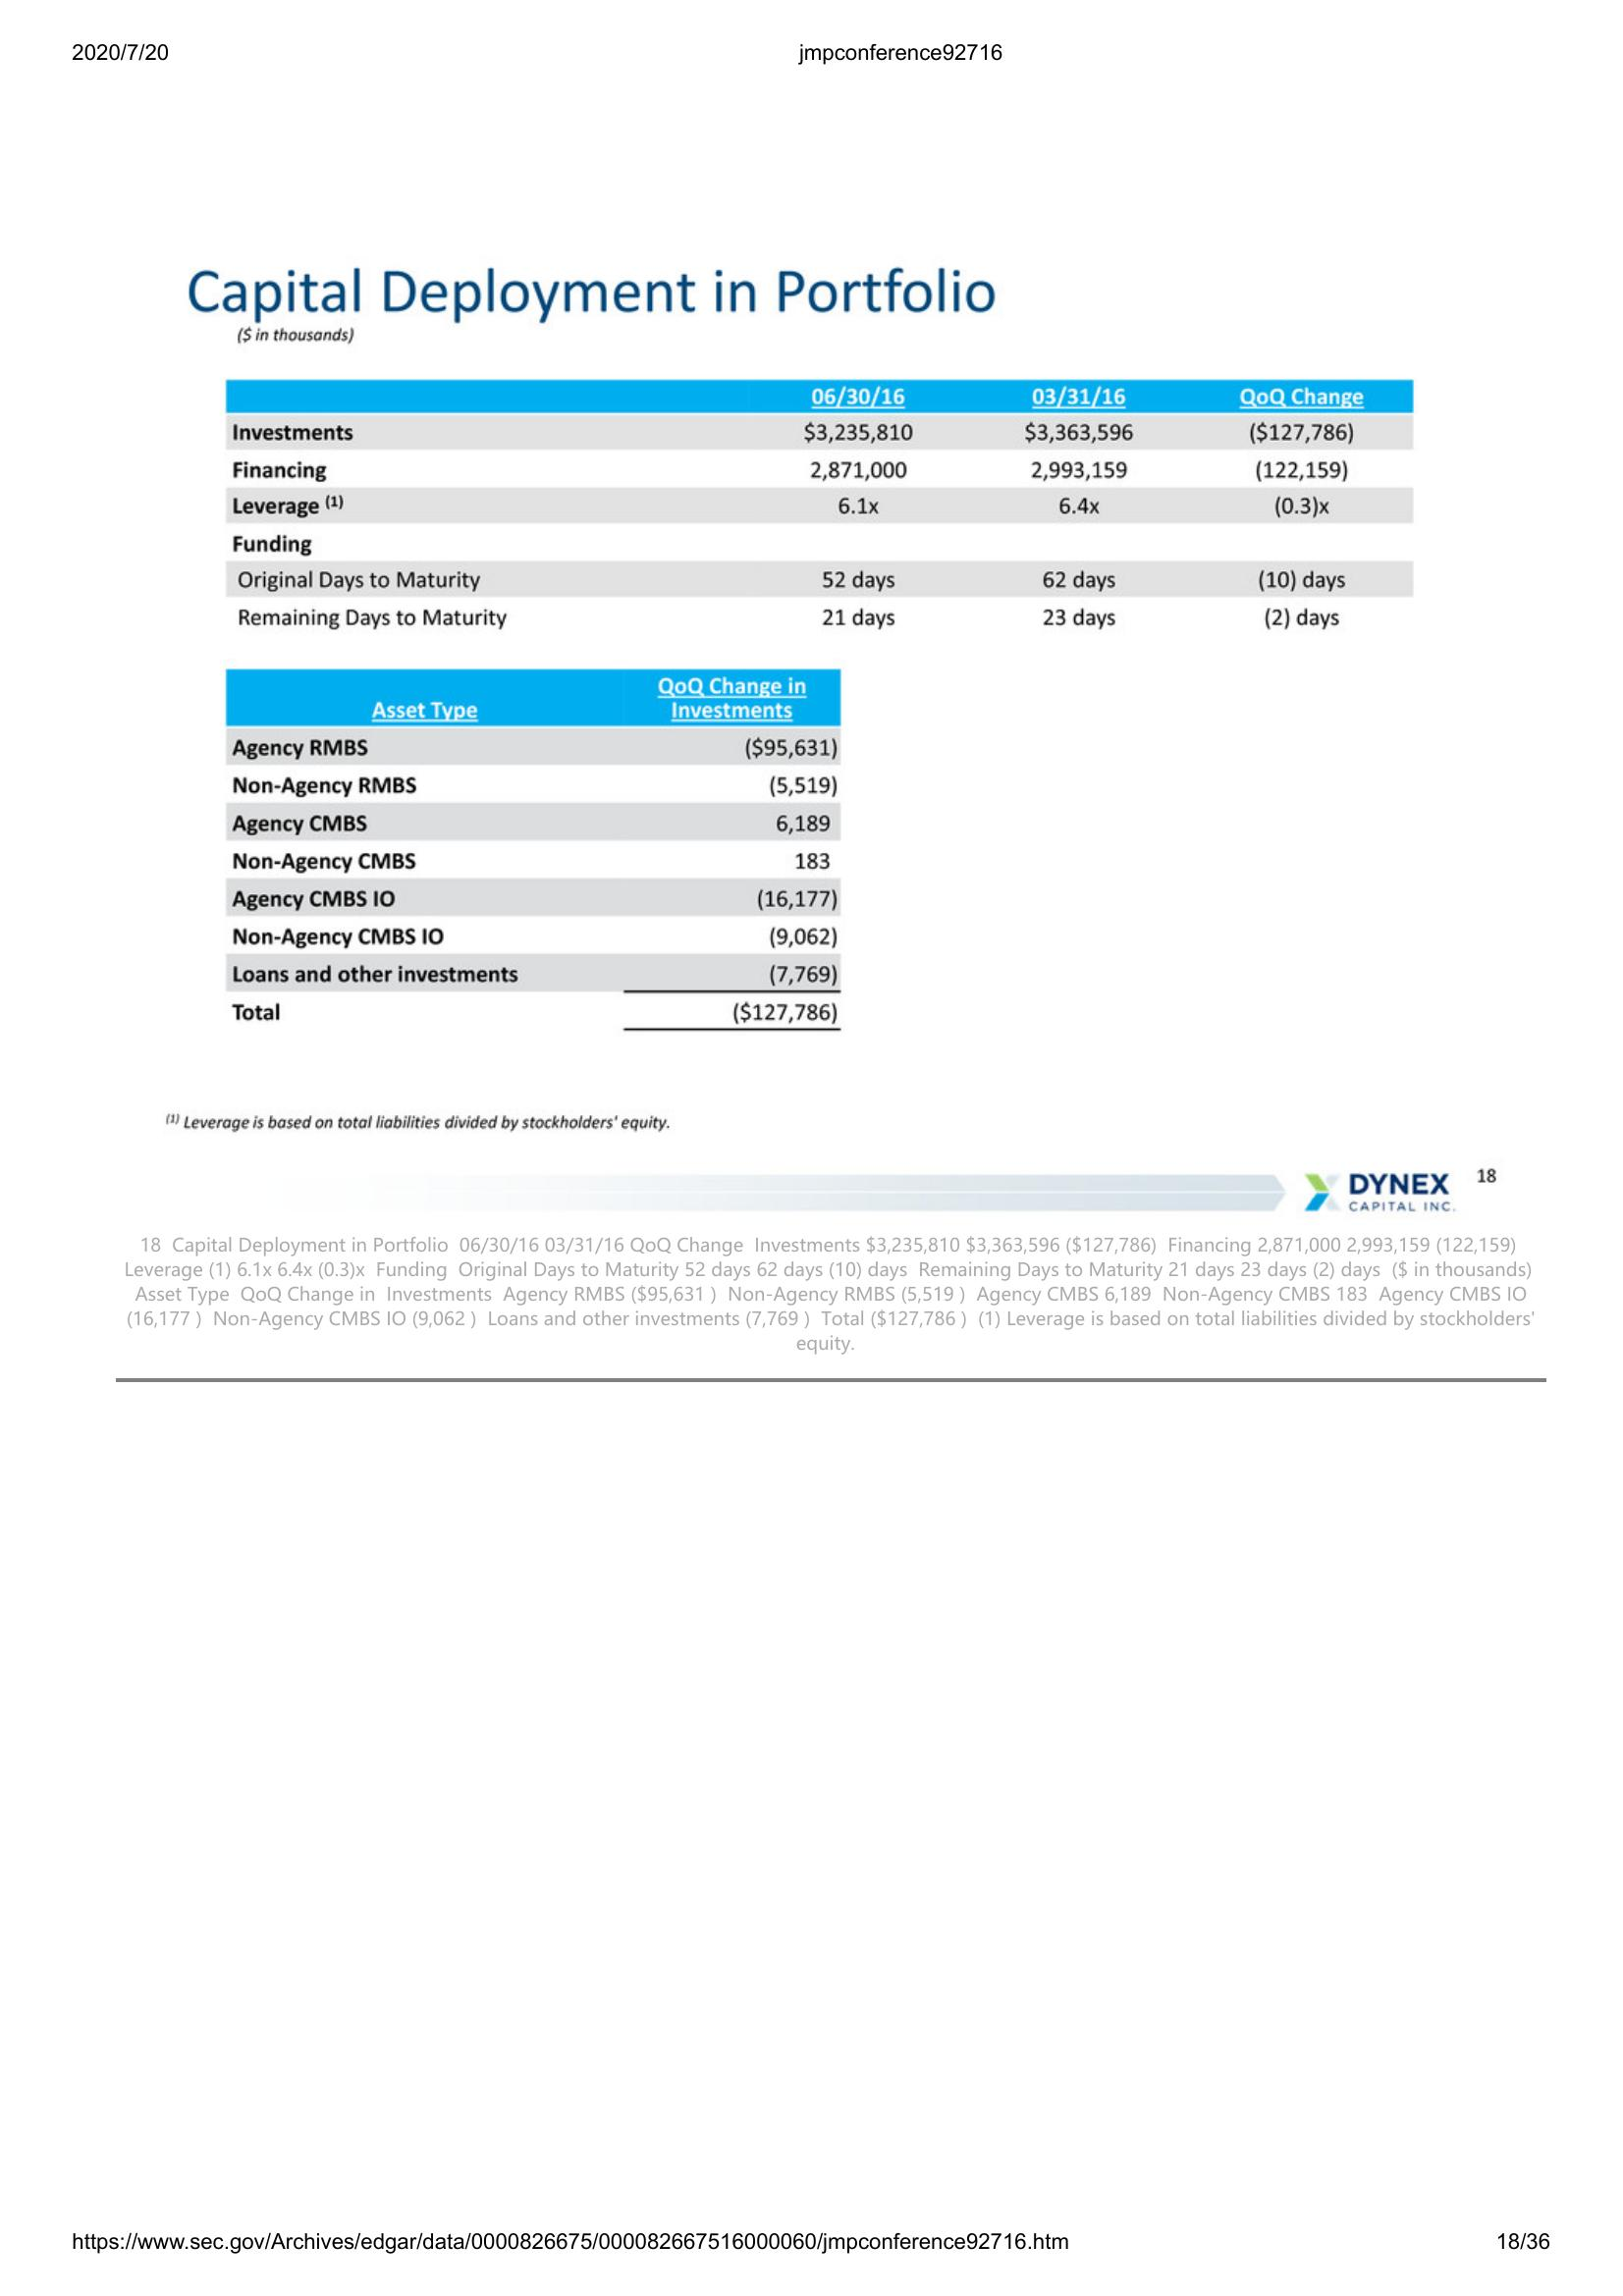table: (220, 374, 1419, 635), (218, 662, 850, 1037)
